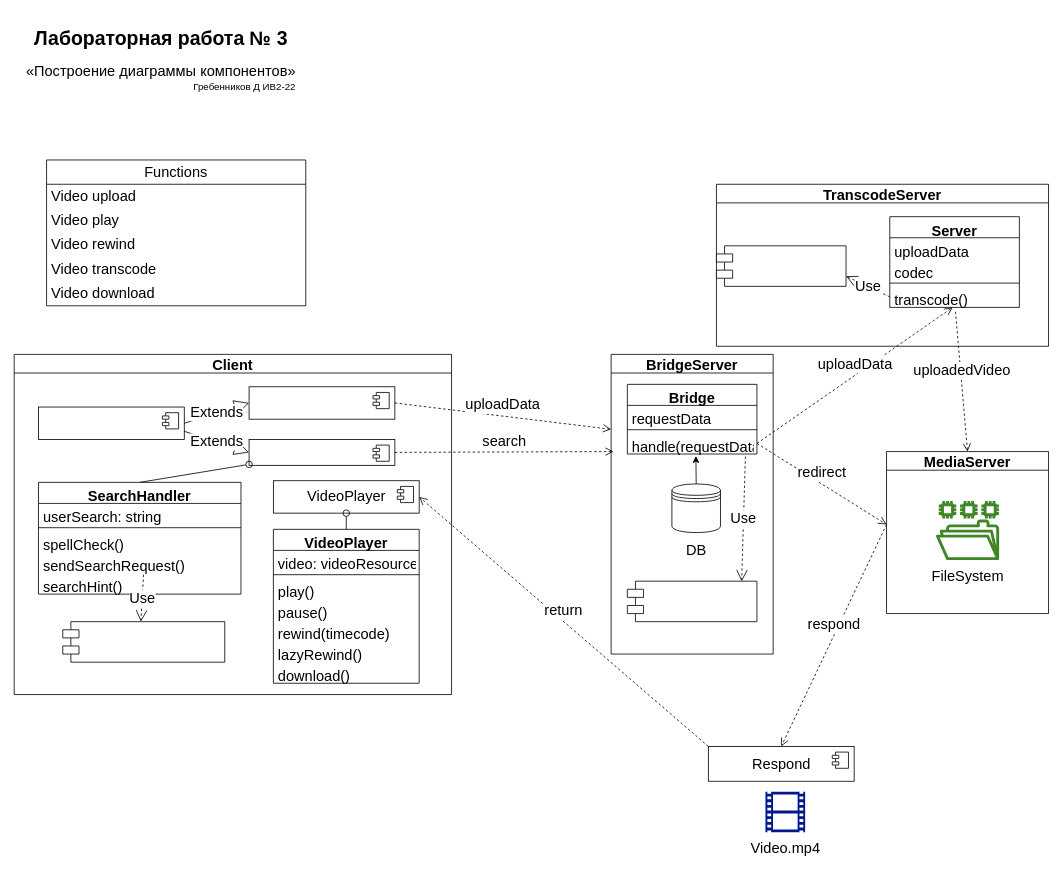
This 1063x878 diagram has some shape labels left out. Each missing label, with the centre of its shape:
"Button" goes at point (111, 422).
"LanguageLibrary" goes at point (143, 641).
"SearchButton" goes at point (321, 452).
"SearchLibrary" goes at point (692, 601).
"TranscodeLibrary" goes at point (781, 265).
"UploadButton" goes at point (321, 402).
